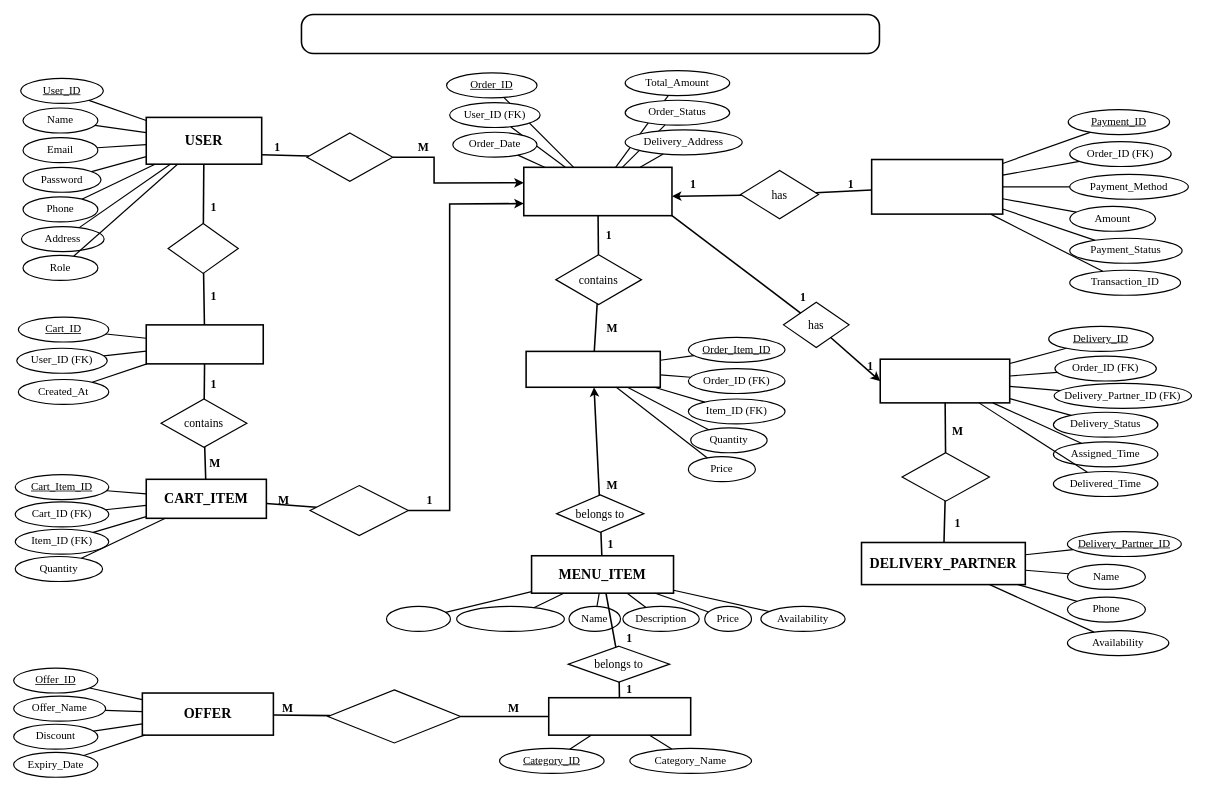
Image size: 1206x791. Some labels were removed from this diagram. The shapes that lost their labels are listed below. From the top down, each one's centre as x and y in pixels, then its label:
the point at 590,33: CRAV System – Entity Relationship Diagram (ERD)
the point at 349,157: places
the point at 597,191: ORDER
the point at 936,186: PAYMENT
the point at 203,248: owns
the point at 204,344: CART
the point at 593,369: ORDER_ITEM
the point at 944,380: DELIVERY
the point at 945,476: handles
the point at 359,510: references
the point at 418,619: Item_ID
the point at 510,619: Category_ID (FK)
the point at 394,716: can be applied
the point at 619,716: CATEGORY
